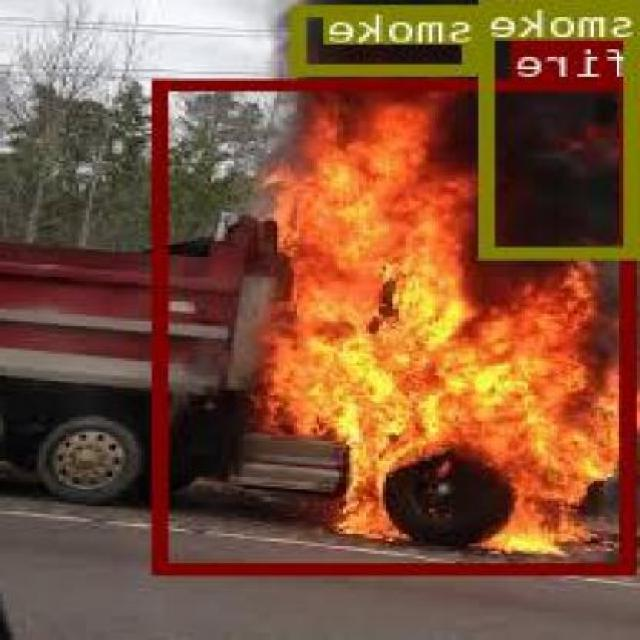fire: (158, 77, 640, 574)
smoke: (485, 0, 640, 254), (295, 4, 479, 73)
